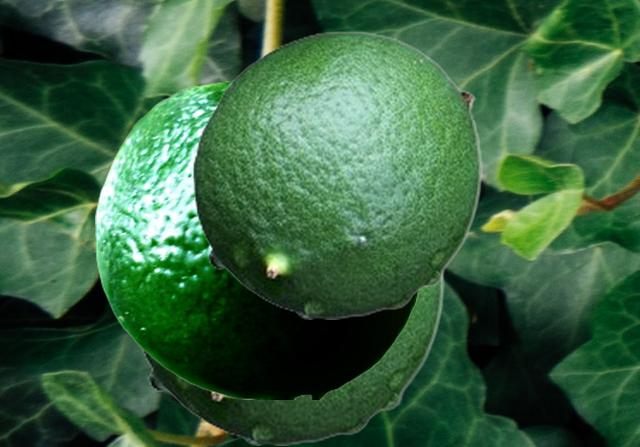calamansi: (95, 77, 422, 398), (192, 30, 481, 318), (136, 280, 443, 444)
